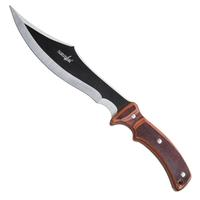knife: (7, 3, 190, 187)
